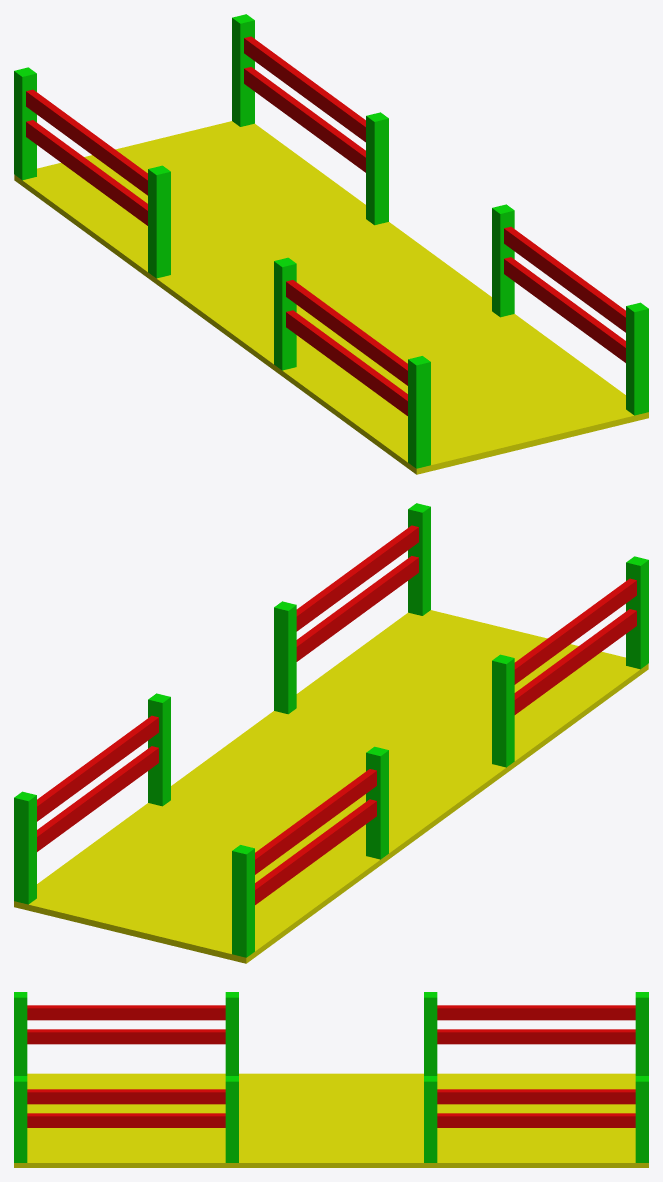
Rendered from WalkwayB_SM (8).fbx.
3 views of the same model, one above another, from view 1: azimuth 30°, elevation 25°; view 2: azimuth 150°, elevation 25°; view 3: azimuth 270°, elevation 25° (orthographic). The views are drawn at different scales.
Visible parts, largest first — view 1: polySurface14; view 2: polySurface14; view 3: polySurface14.
Boxes of the visible parts, <box> form: polySurface14: <box>14,14,648,474</box>; polySurface14: <box>14,503,648,963</box>; polySurface14: <box>14,992,648,1167</box>.
Bounding box in the file's own units: 8.01 × 3.6 × 24.
